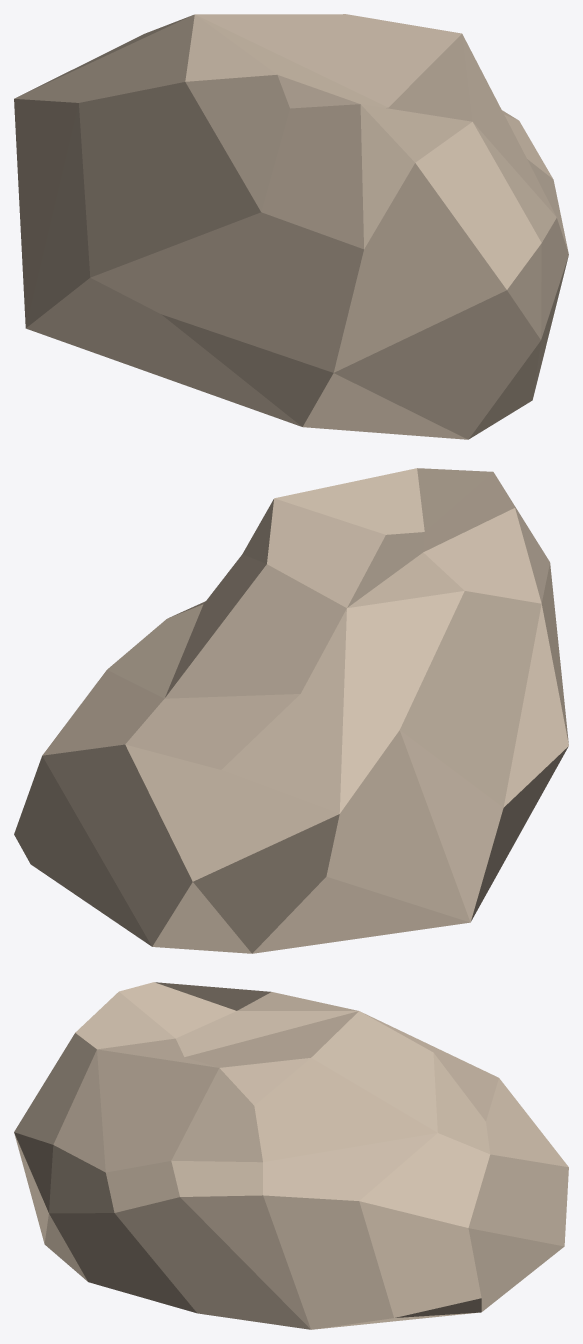
Rendered from Hshitou2.FBX.
3 views of the same model, one above another, from view 1: azimuth 30°, elevation 25°; view 2: azimuth 150°, elevation 25°; view 3: azimuth 270°, elevation 25° (orthographic). The views are drawn at different scales.
Visible parts, largest first — view 1: 对象012; view 2: 对象012; view 3: 对象012.
Part boxes in pixels (x1,y1,x2,y2): 对象012: (14,14,568,439); 对象012: (14,468,568,953); 对象012: (14,982,568,1329).
Bounding box in the file's own units: 14.17 × 9.56 × 20.06.
